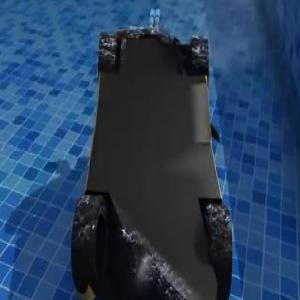critical: (66, 11, 235, 300)
